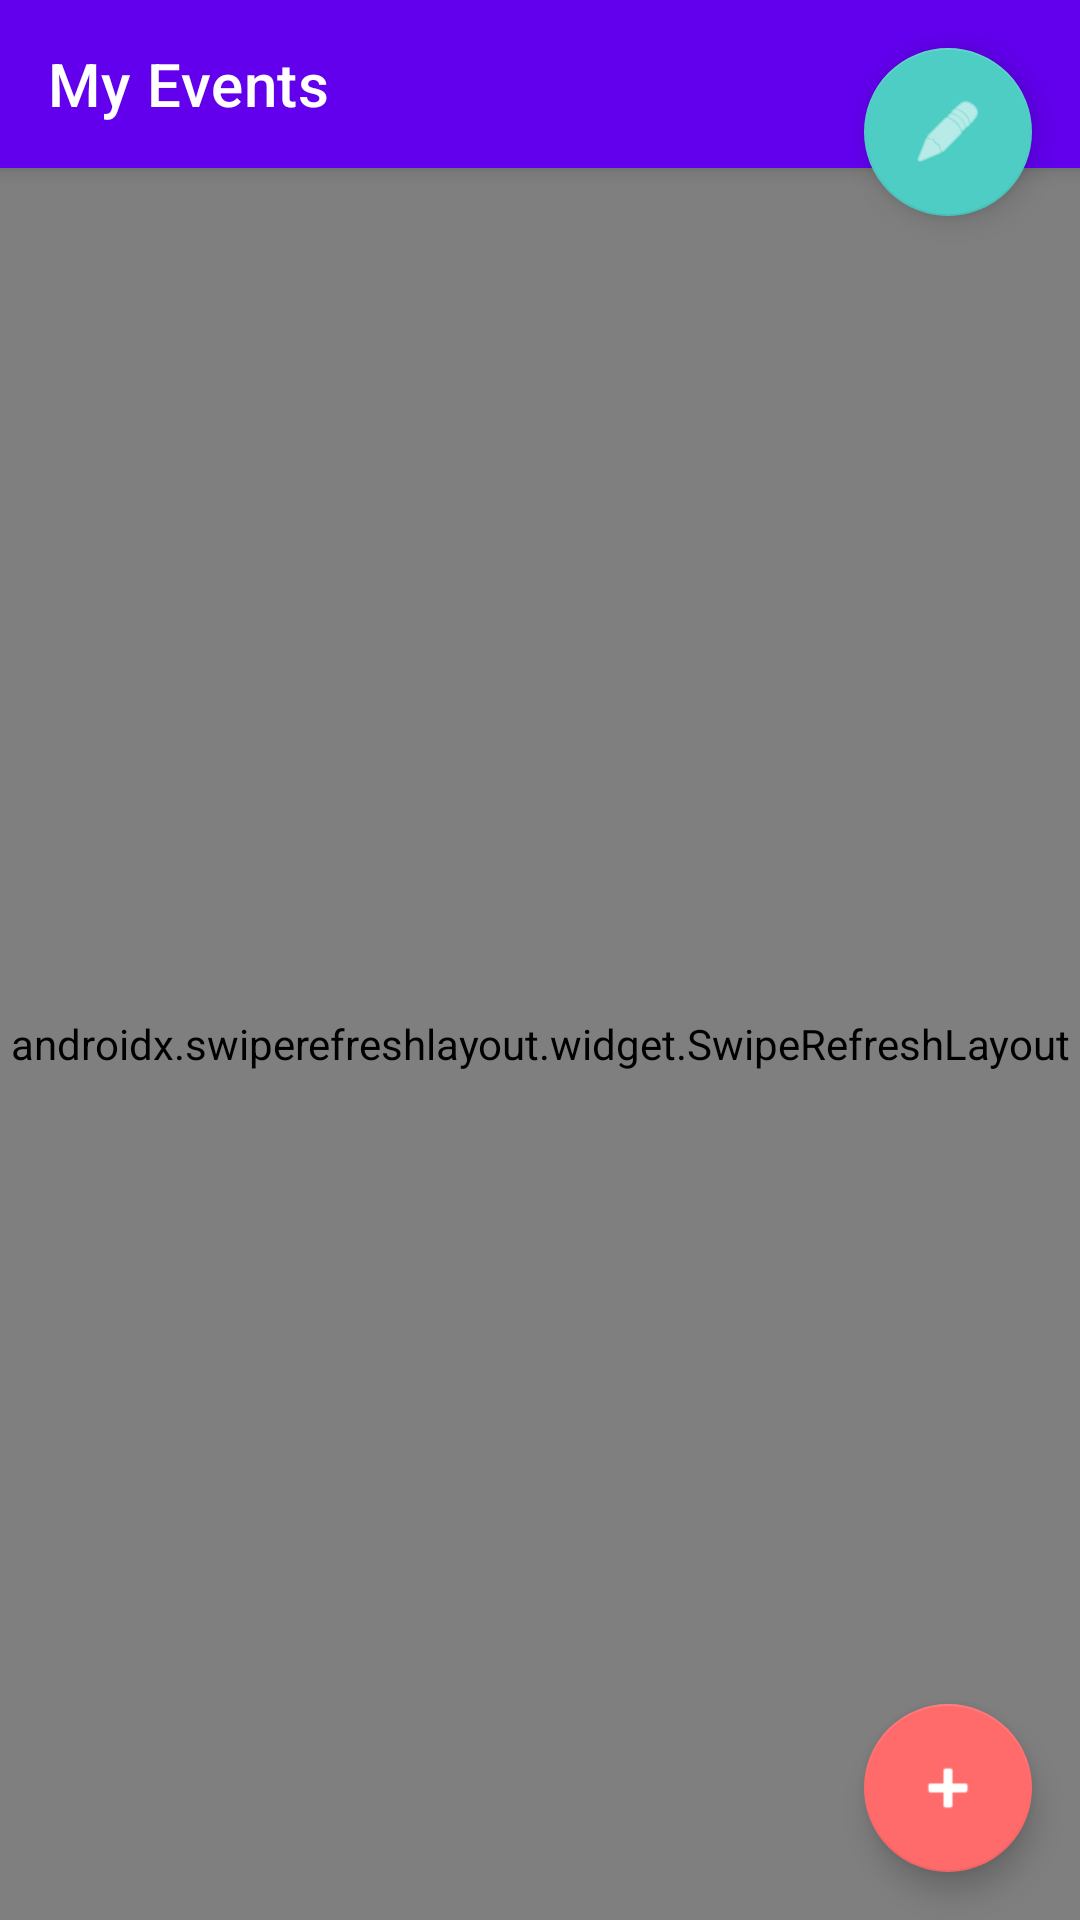

Icons on this 1080px x 1920px Android screen, each with the point to tap as (x=x, y=y):
add: (x=948, y=1788)
edit: (x=948, y=132)
